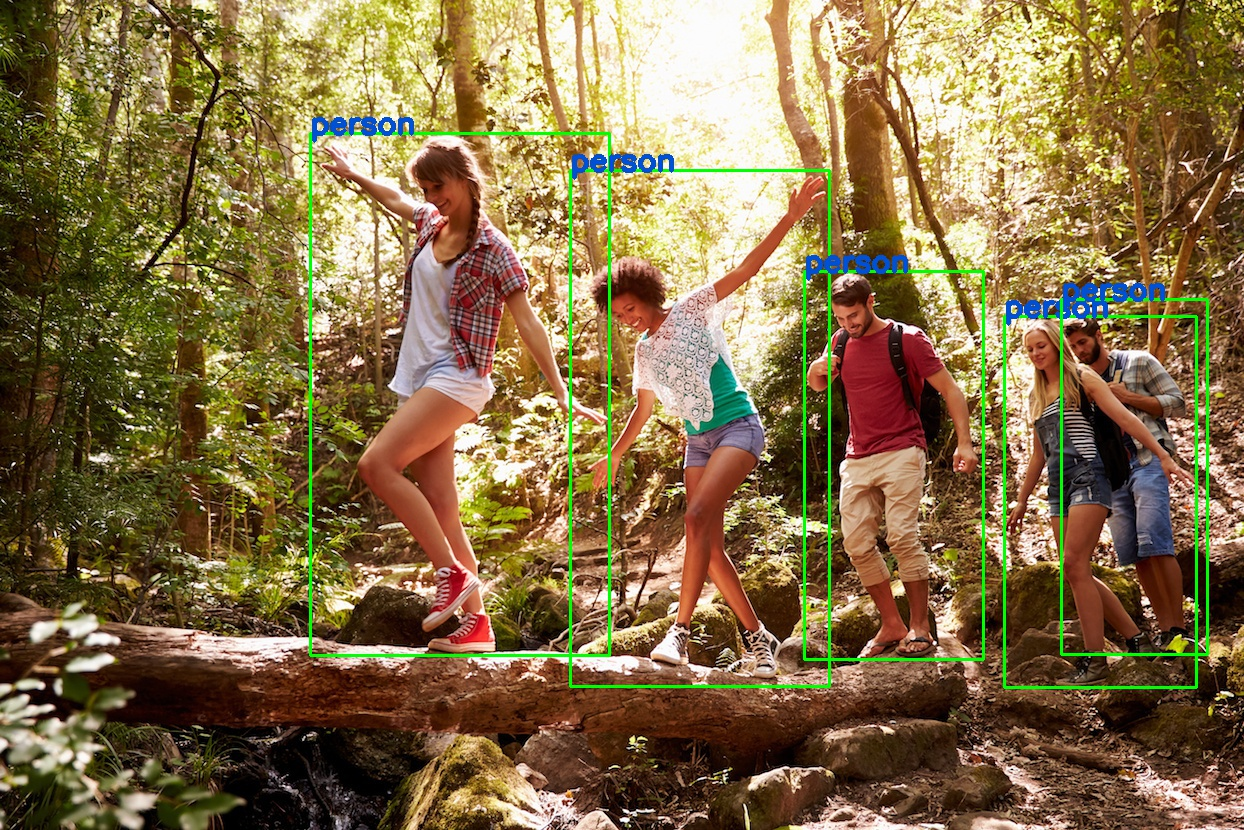person: (309, 133, 609, 655), (570, 170, 828, 686), (1003, 316, 1195, 687), (804, 270, 983, 659), (1061, 298, 1207, 653)
